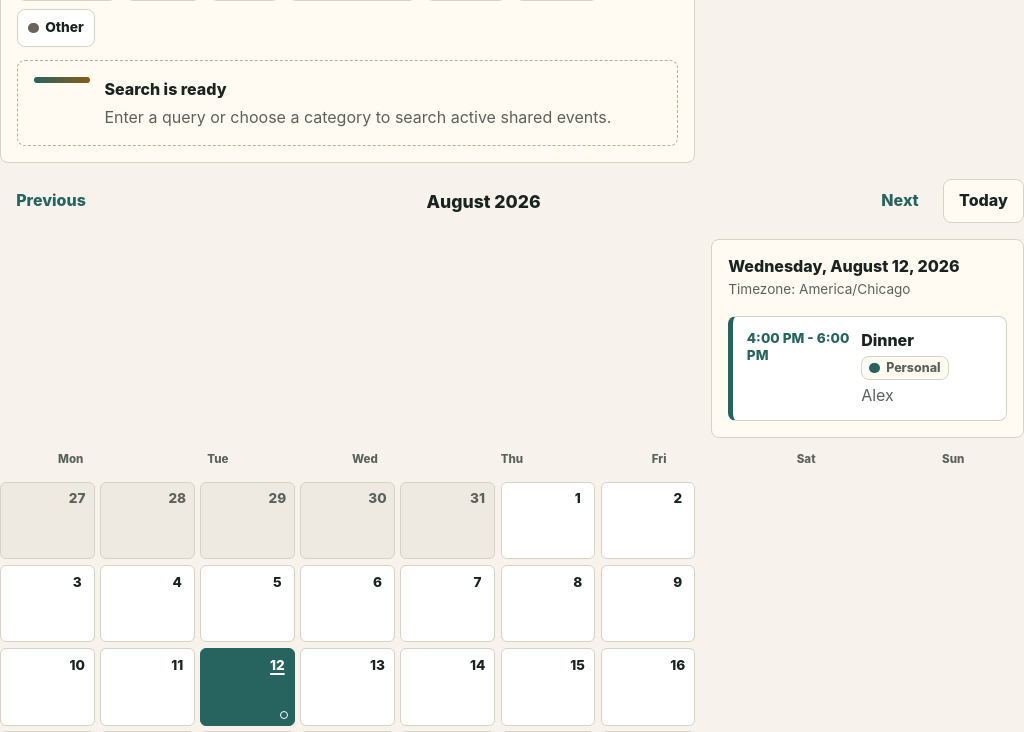
Test: SharedCalendar › requires confirmation before deleting an event and removes it from the agenda
The width and height of the screenshot is (1024, 732).
(page scrolled)
Click the button with aria-label "Open Dinner". click: (868, 369)
box: [728,316,1007,421]
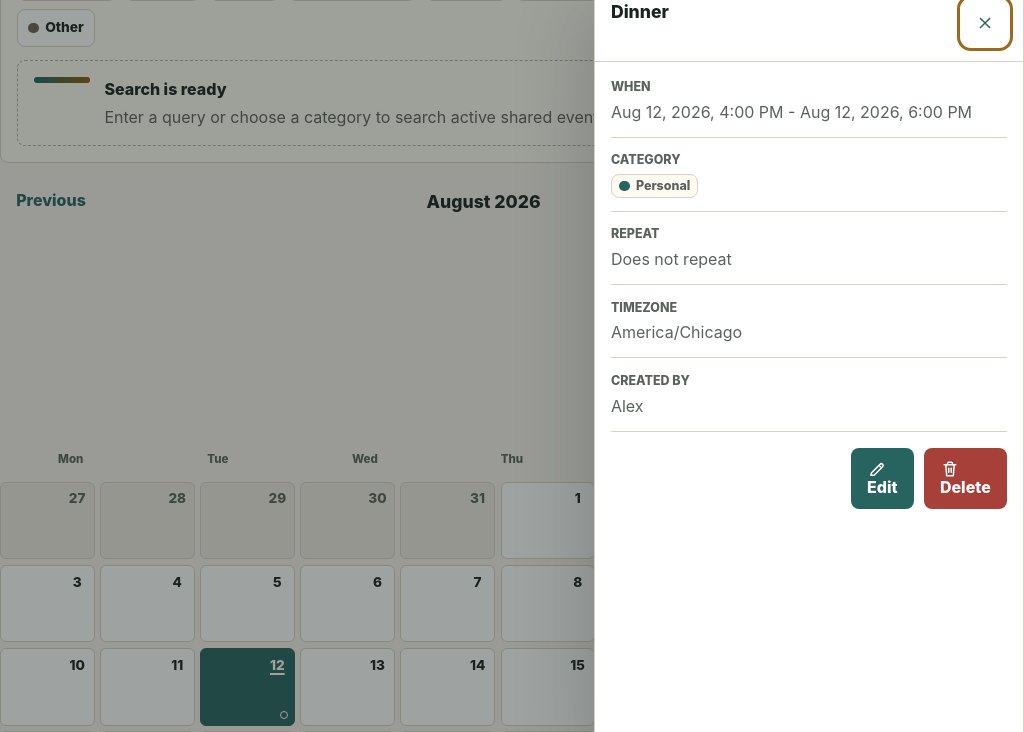
Click the button "Delete". click: (965, 478)
box: [924,448,1007,509]
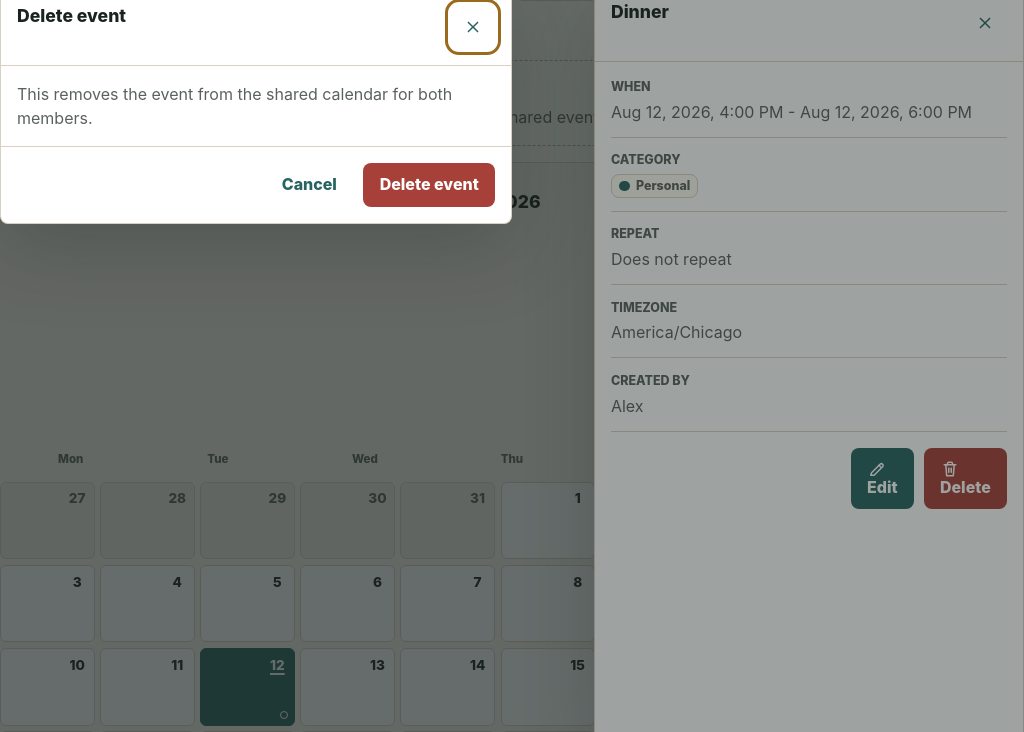
Click the button "Cancel". click: (309, 185)
box: [266,163,353,207]
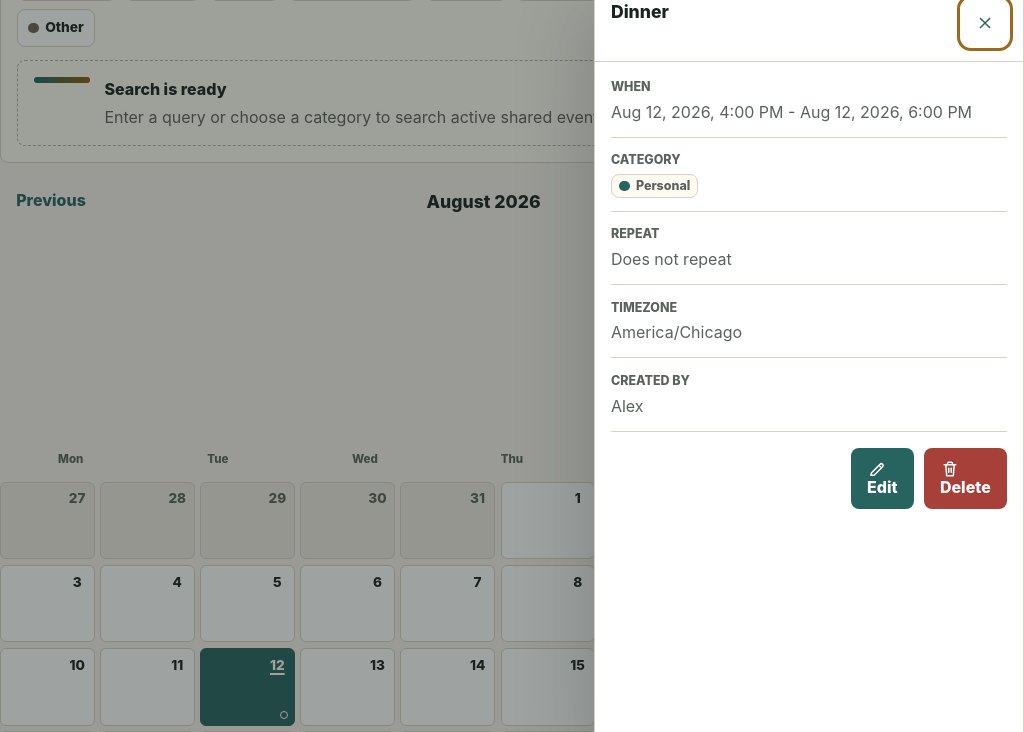
Click the button "Delete". click: (965, 478)
box: [924,448,1007,509]
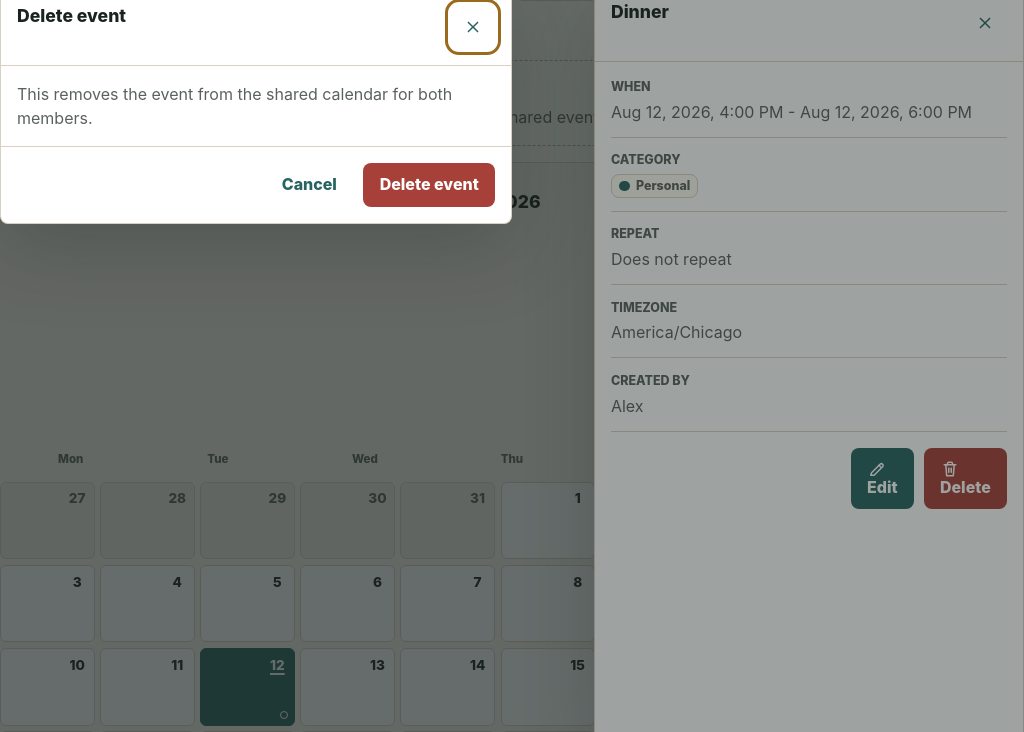
Click the button "Delete event". click: (429, 185)
box: [364,163,495,207]
(page scrolled)
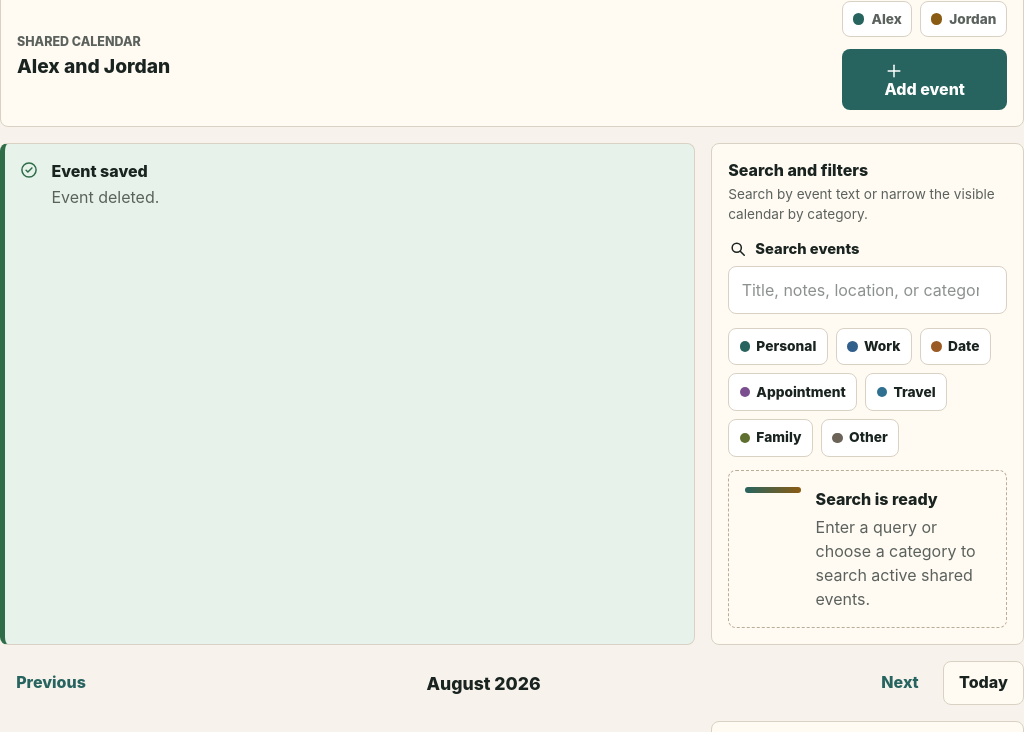
Check: the text "Event deleted." is shown, box [51,187,159,207]
Check: the button "Dinner" is gone
